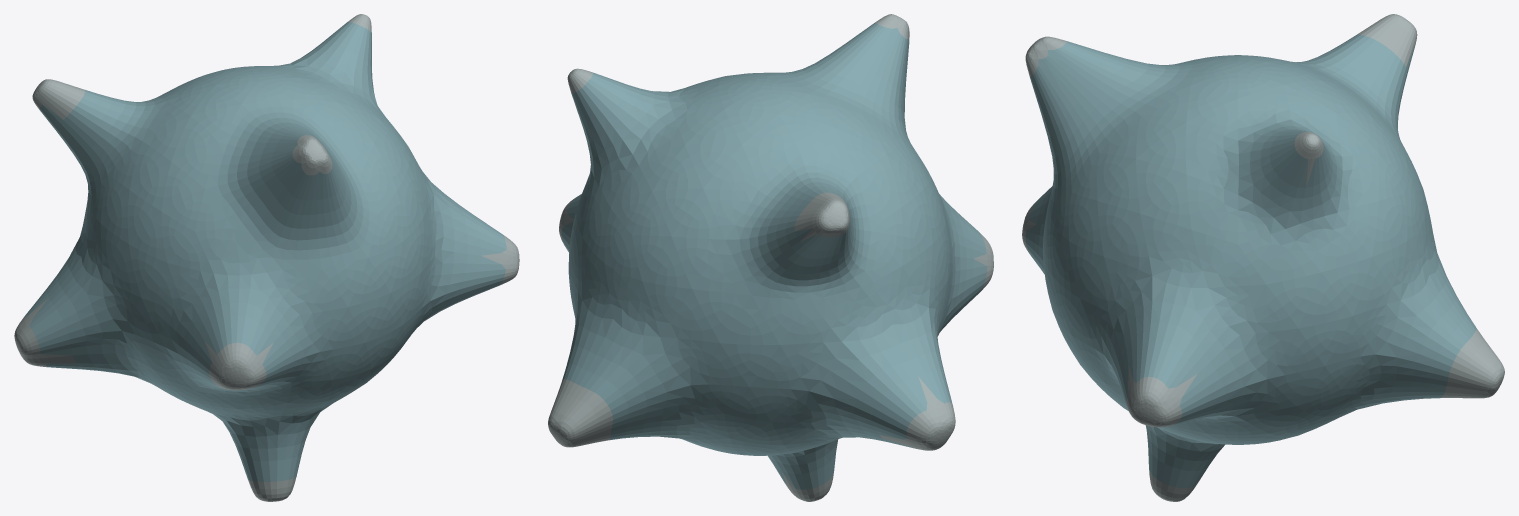
File: planet-4.glb
3 views of the same model, side by side, from view 1: azimuth 30°, elevation 25°; view 2: azimuth 150°, elevation 25°; view 3: azimuth 270°, elevation 25° (orthographic). The views are drawn at different scales.
Parts seen in each view (by area): view 1: Planet_4; view 2: Planet_4; view 3: Planet_4.
Part boxes in pixels (x1,y1,x2,y2): Planet_4: (14, 14, 519, 501); Planet_4: (548, 14, 993, 501); Planet_4: (1022, 14, 1504, 501).
Size of the model in its own units: 4.49 by 4.09 by 3.97.
